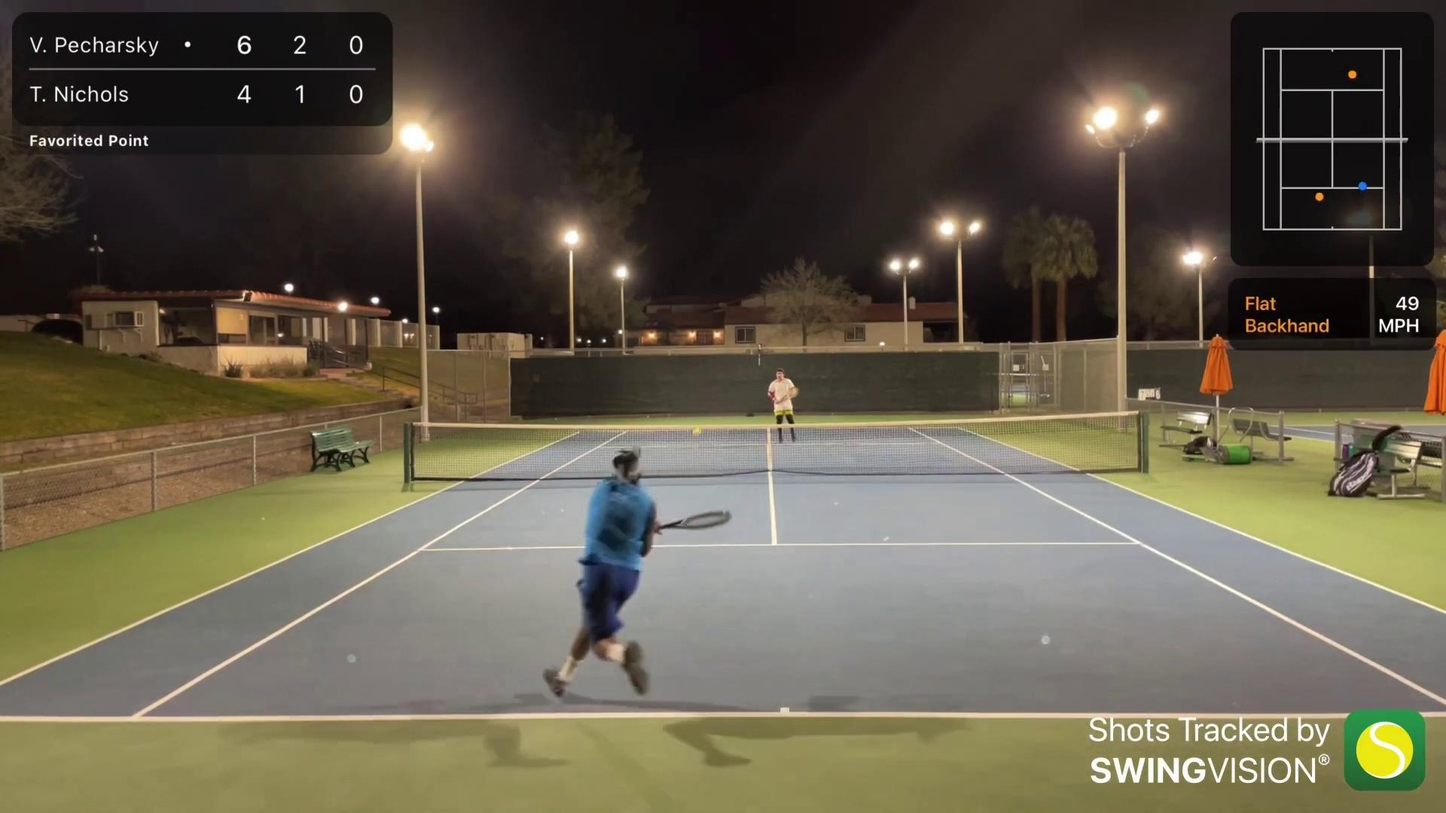ball: (689, 425, 703, 436)
